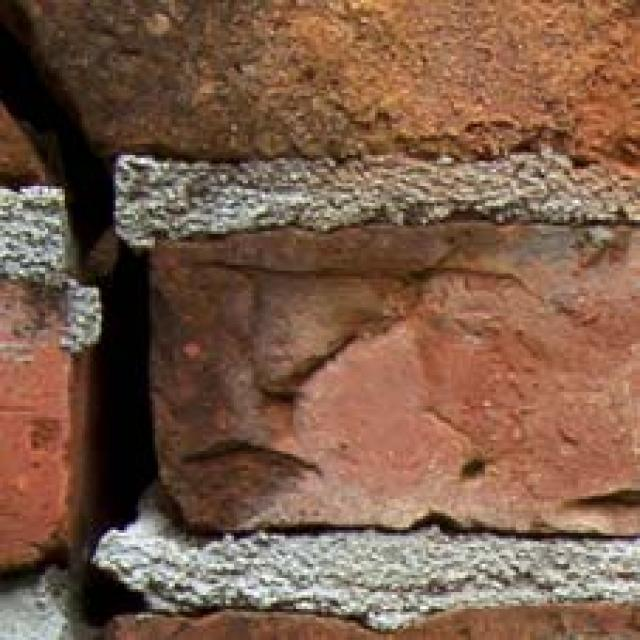Crack: (0, 0, 263, 640)
